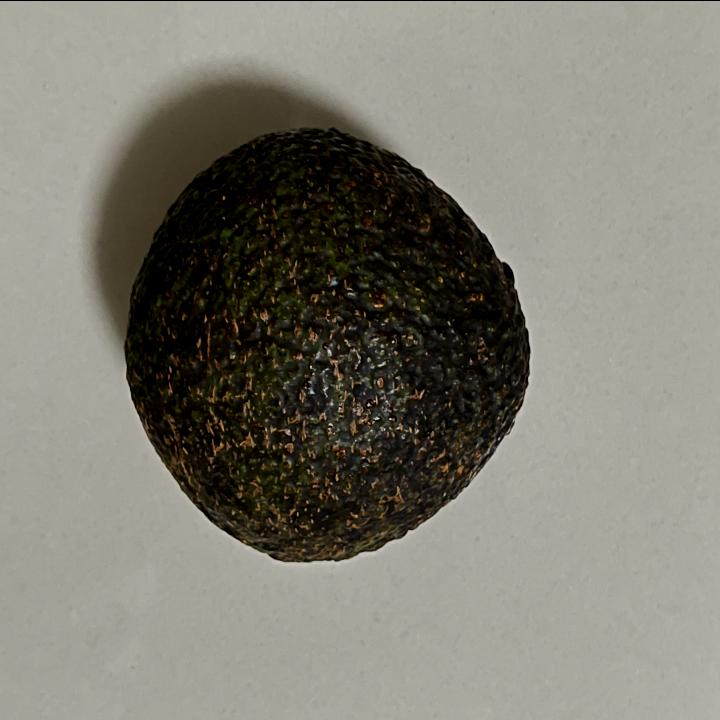Level1: (110, 114, 542, 582)
